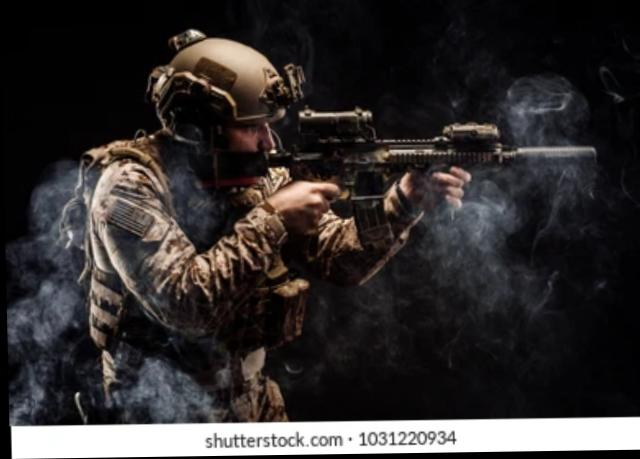other: (77, 45, 327, 414)
